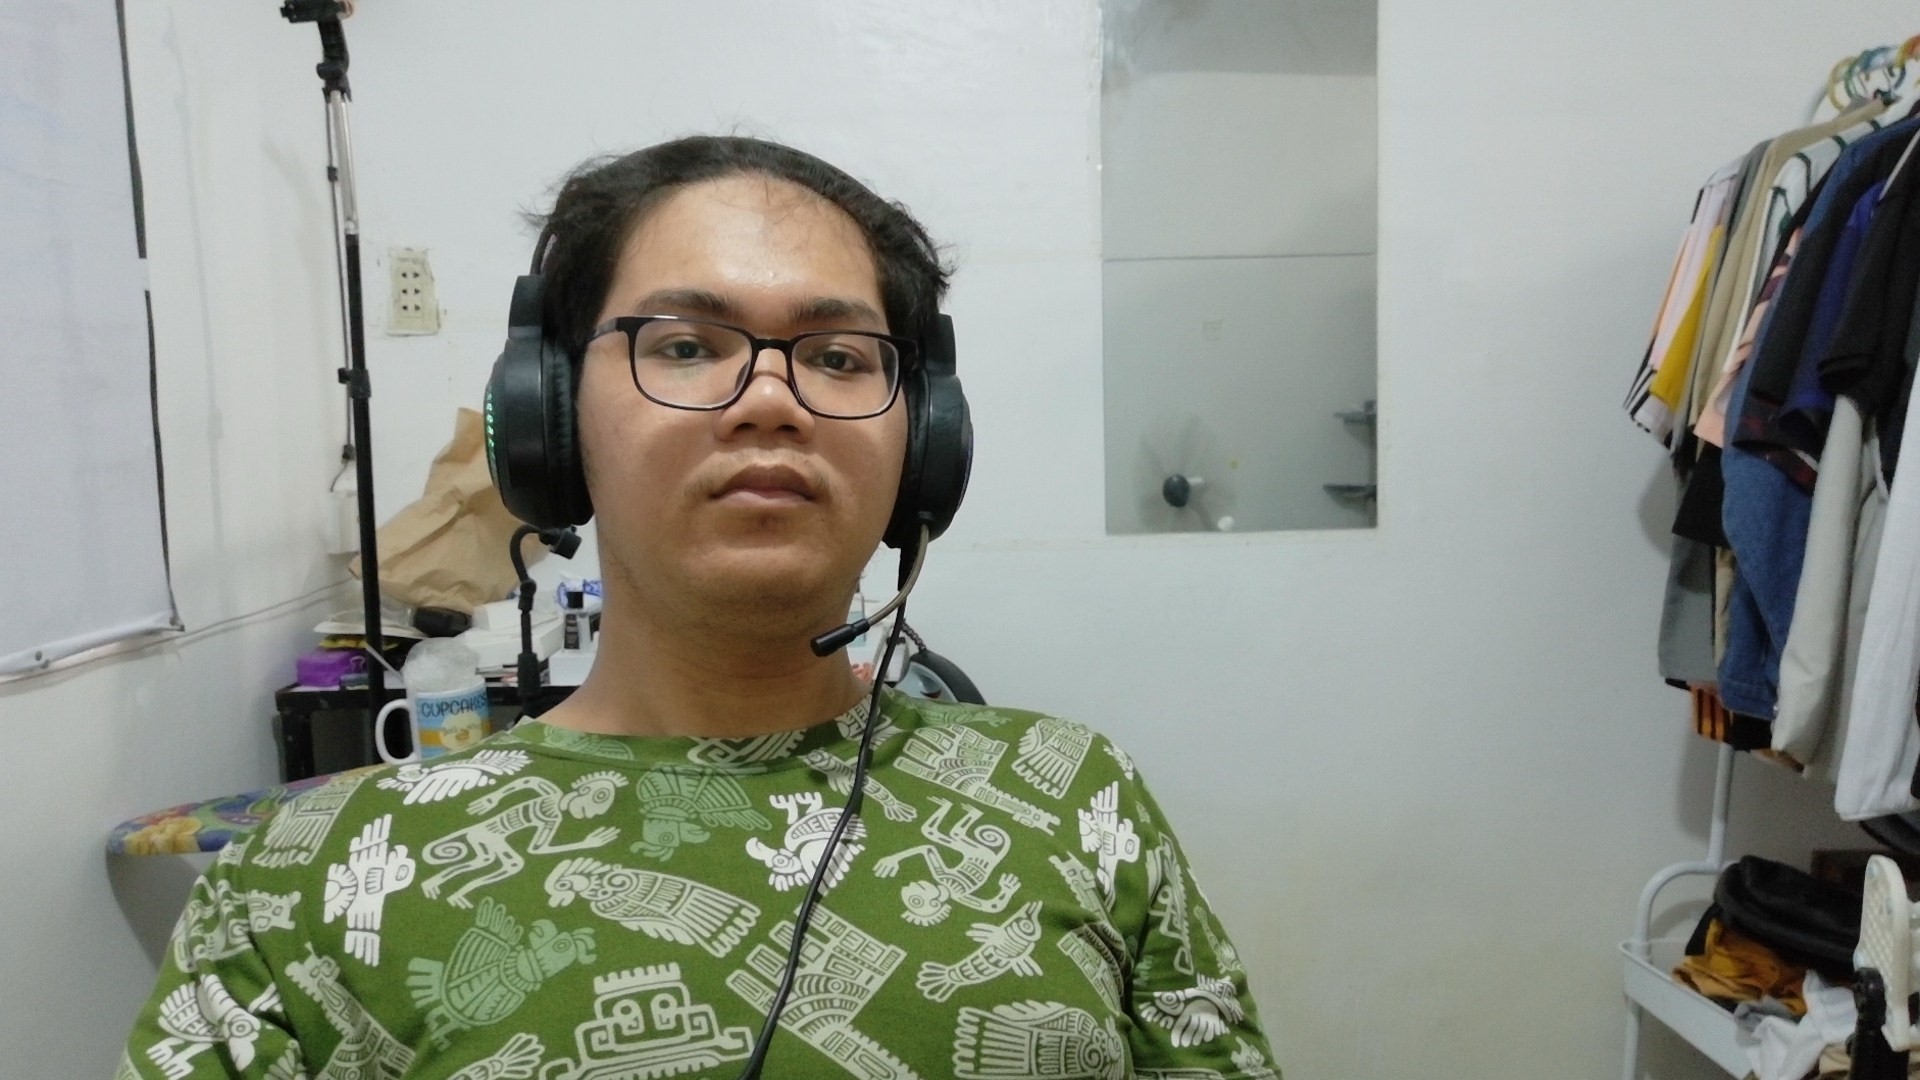face: (426, 85, 1077, 693)
